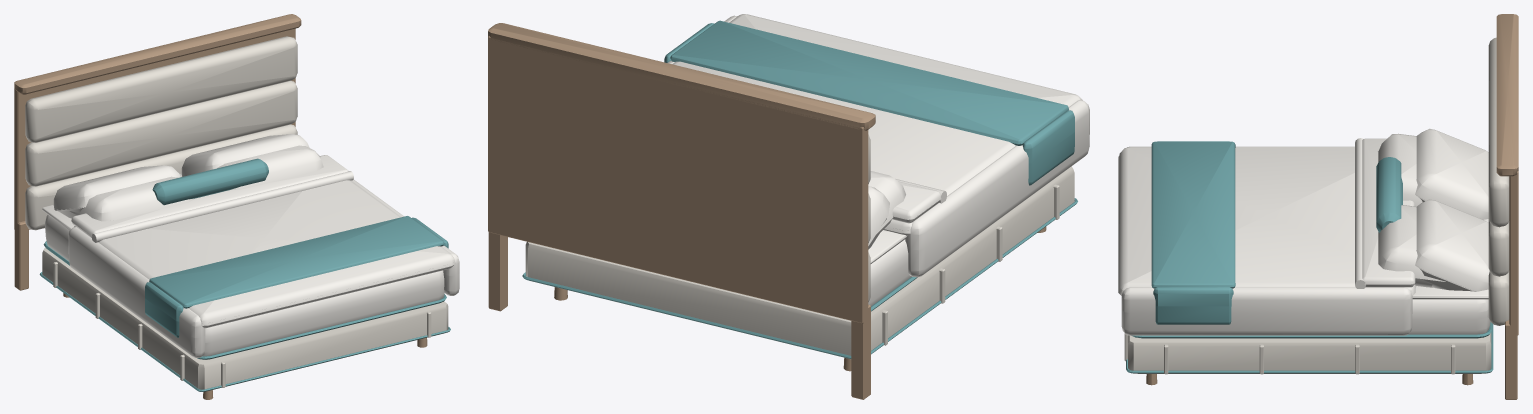
The model's file is guest-room-bed-king.glb.
3 renders of one model, left to right at view 1: azimuth 30°, elevation 25°; view 2: azimuth 150°, elevation 25°; view 3: azimuth 270°, elevation 25°, orthographic. The views are drawn at different scales.
Visible parts, largest first — view 1: bed-king-upholstered; view 2: bed-king-upholstered; view 3: bed-king-upholstered.
Part boxes in pixels (x1,y1,x2,y2): bed-king-upholstered: (14,14,459,399); bed-king-upholstered: (488,14,1089,399); bed-king-upholstered: (1118,14,1518,399).
Bounding box in the file's own units: 2.02 × 1.42 × 2.2.
